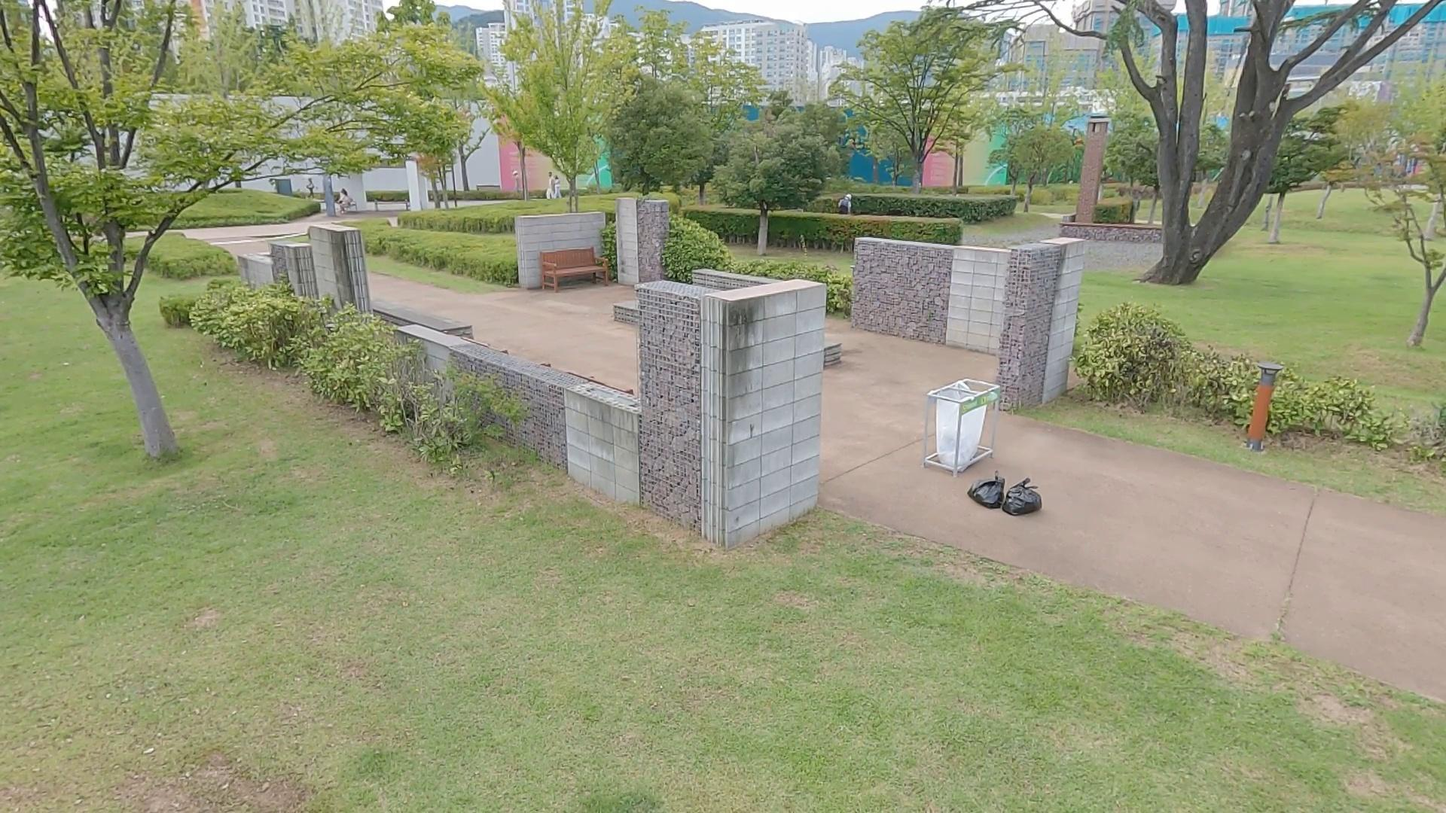trash: (1003, 476, 1044, 518), (965, 470, 1007, 510)
